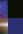eye: (8, 0, 23, 18)
potion: (0, 0, 8, 18)
